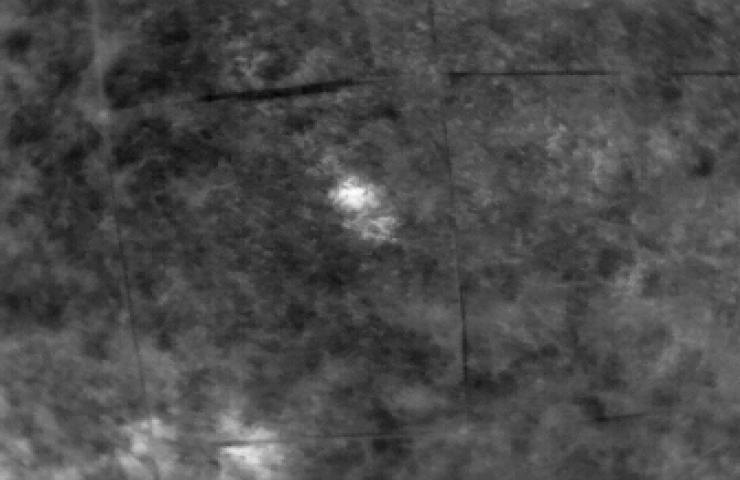landmines: (325, 173, 388, 216)
